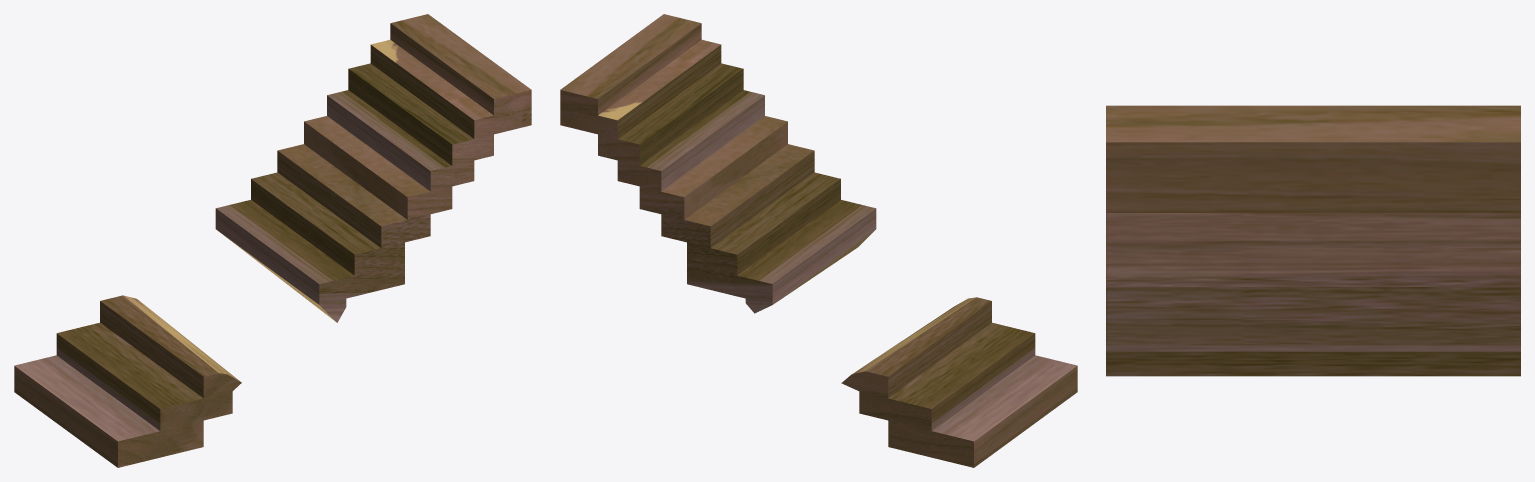
File: escaleras level3.fbx
3 renders of one model, left to right at view 1: azimuth 30°, elevation 25°; view 2: azimuth 150°, elevation 25°; view 3: azimuth 270°, elevation 25°, orthographic. The views are drawn at different scales.
Parts seen in each view (by area): view 1: Cubo.001; view 2: Cubo.001; view 3: Cubo.001.
Boxes of the visible parts, x1=… form: Cubo.001: x1=14, y1=14, x2=531, y2=467; Cubo.001: x1=560, y1=14, x2=1077, y2=467; Cubo.001: x1=1106, y1=105, x2=1520, y2=376.
Size of the model in its own units: 4394 by 2811 by 1907.
